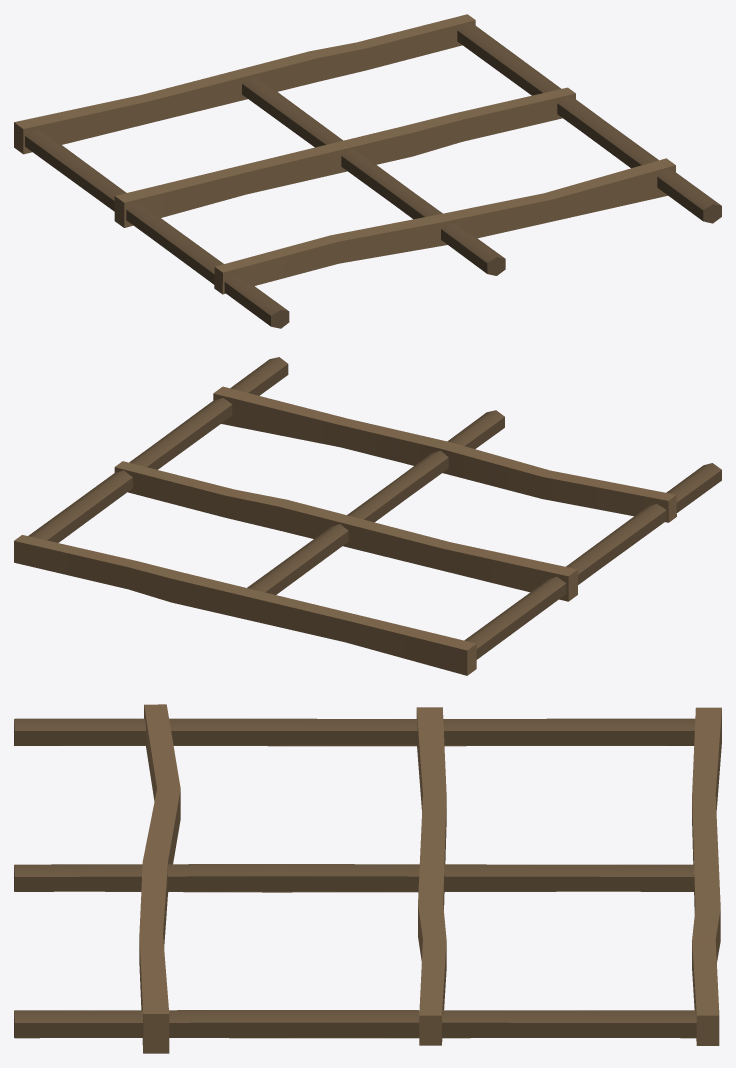
The model's file is SM_Bld_Trellis_01.fbx.
The picture shows the model from 3 angles, top to bottom: view 1: azimuth 30°, elevation 25°; view 2: azimuth 150°, elevation 25°; view 3: azimuth 270°, elevation 25°; orthographic projection. The views are drawn at different scales.
Parts seen in each view (by area): view 1: SM_Bld_Trellis_01; view 2: SM_Bld_Trellis_01; view 3: SM_Bld_Trellis_01.
Boxes of the visible parts, x1,y1,x2,y2 form: SM_Bld_Trellis_01: [14, 14, 721, 328]; SM_Bld_Trellis_01: [14, 357, 721, 675]; SM_Bld_Trellis_01: [14, 704, 721, 1053].
Size of the model in its own units: 262 by 17.4 by 256.
